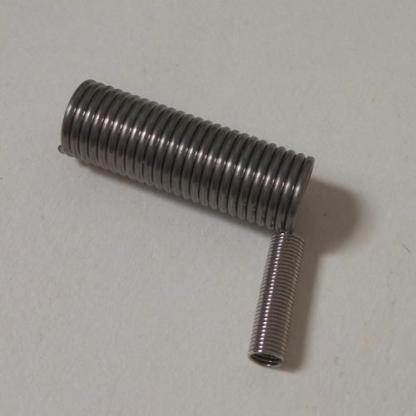FOD: (55, 76, 316, 238), (246, 228, 311, 374)
